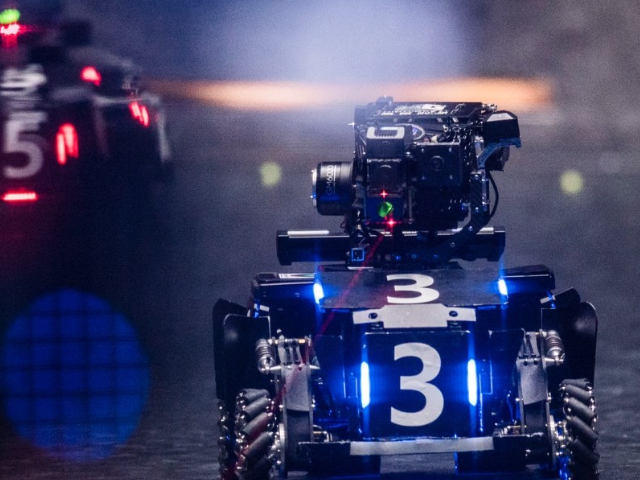rm: (217, 99, 596, 474), (0, 0, 172, 215)
